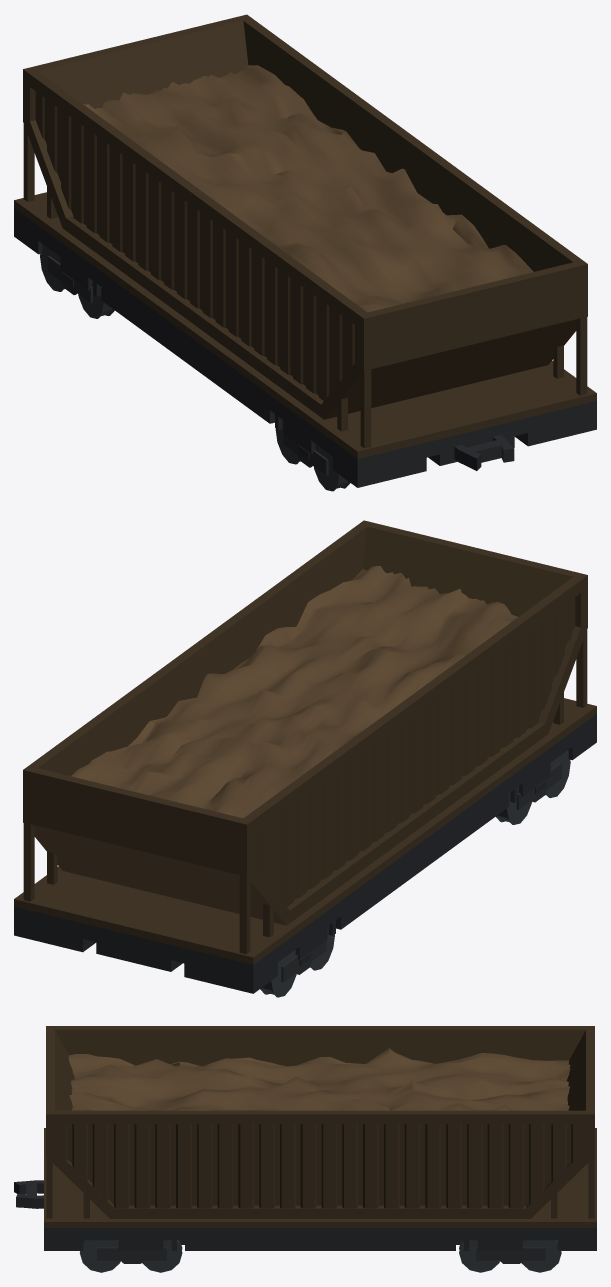
The model's file is Wagon_6.fbx.
3 views of the same model, one above another, from view 1: azimuth 30°, elevation 25°; view 2: azimuth 150°, elevation 25°; view 3: azimuth 270°, elevation 25° (orthographic). The views are drawn at different scales.
Parts seen in each view (by area): view 1: Wagon_6; view 2: Wagon_6; view 3: Wagon_6.
Part boxes in pixels (x1=…): Wagon_6: x1=14, y1=14, x2=596, y2=491; Wagon_6: x1=14, y1=520, x2=596, y2=997; Wagon_6: x1=14, y1=1026, x2=596, y2=1272.
Size of the model in its own units: 228 by 178 by 598.
